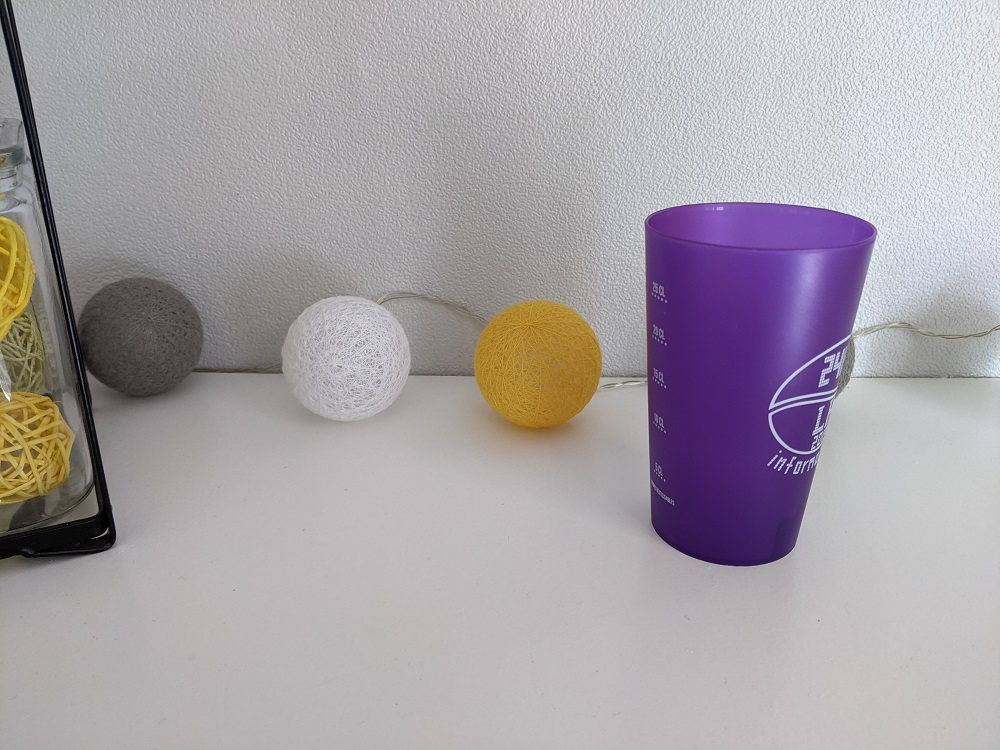ecocup: (645, 202, 877, 566)
